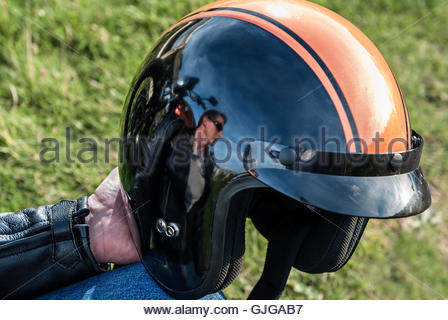with_helmet: (119, 1, 432, 295)
